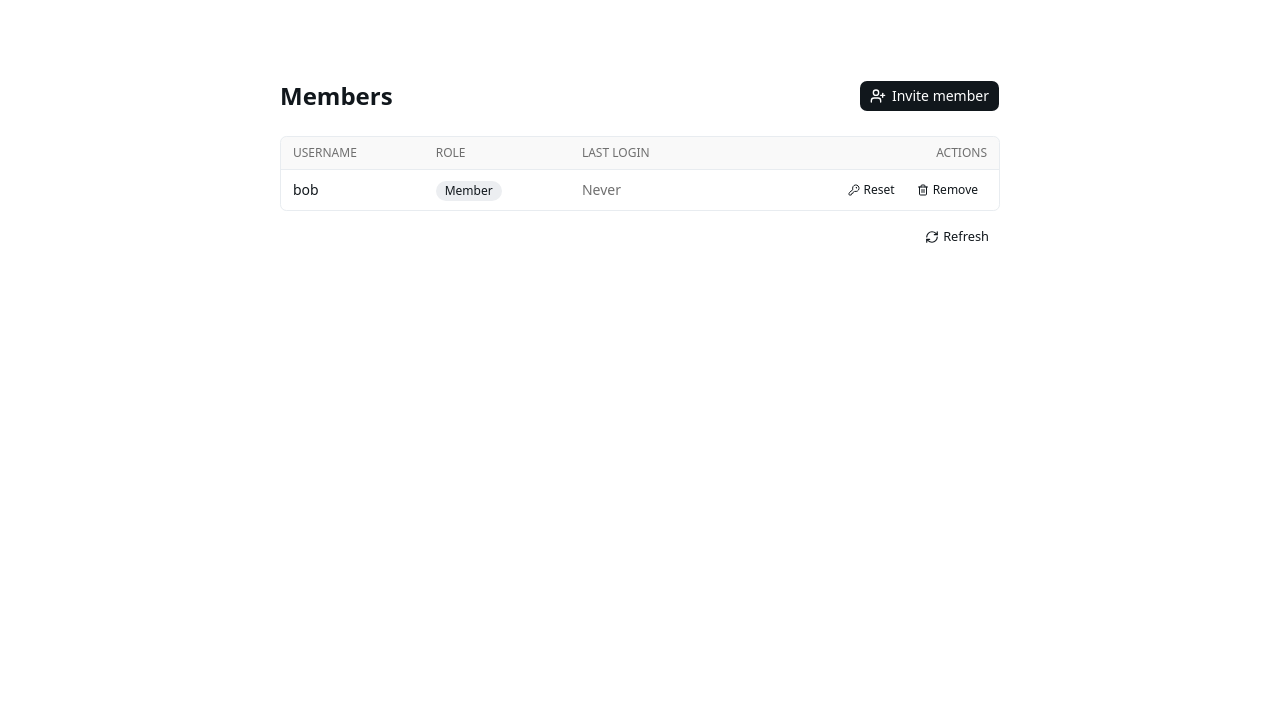
MembersPage actions › deletes a user through the confirmation dialog and refreshes the list
Step 1. Click the button "Remove" → [947, 190], box [908,178,987,202]
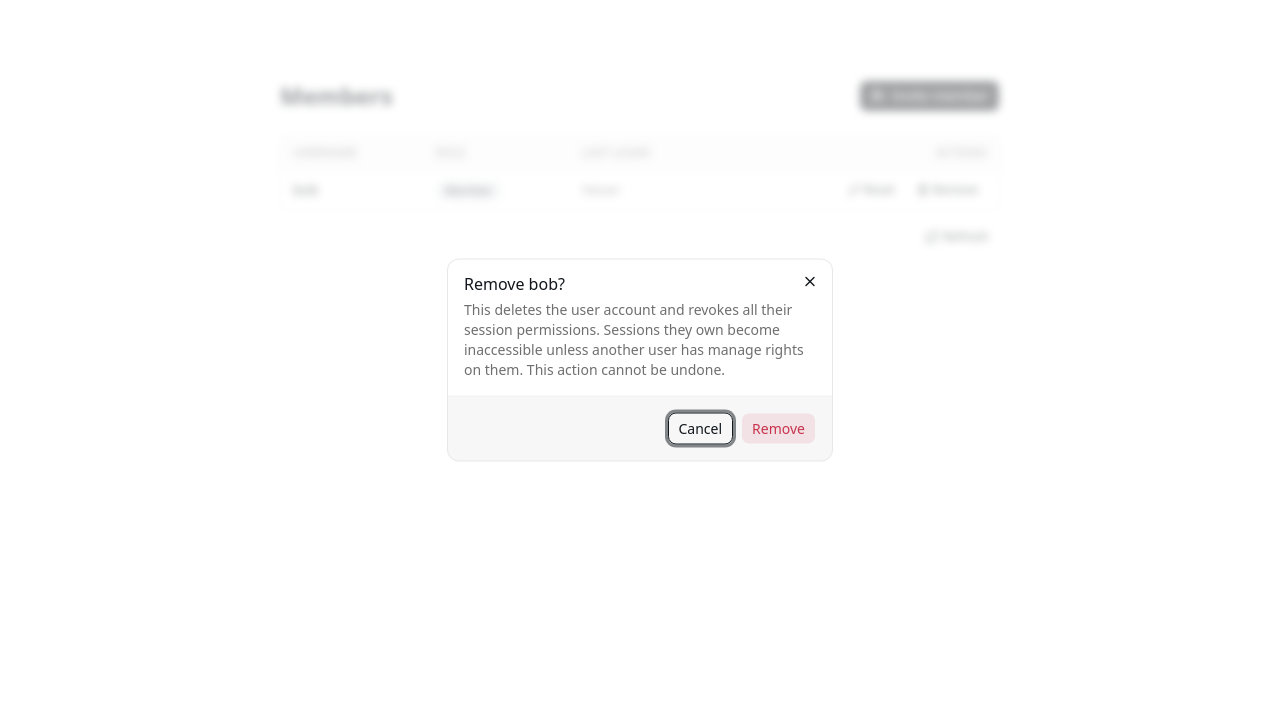
expect the heading "Remove bob?" is shown: met, box [464,272,565,294]
Step 2. Click the button "Remove" → [779, 428], box [741,412,816,444]
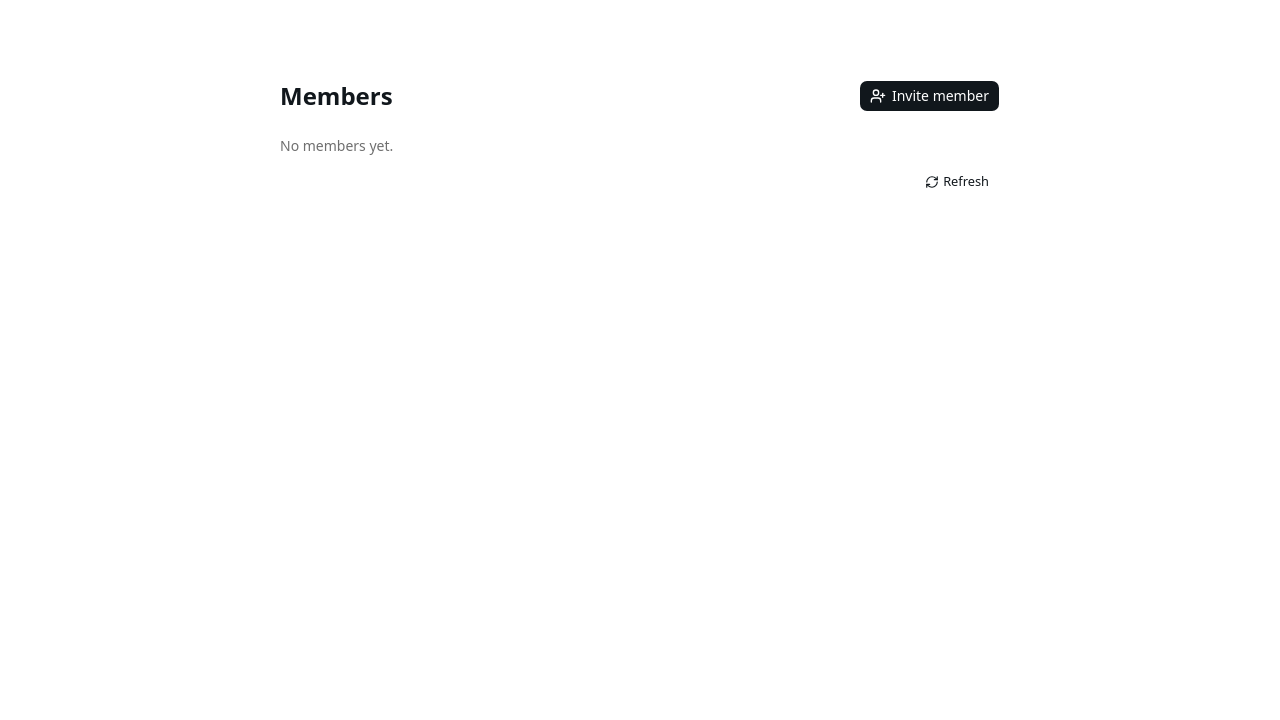
expect the text "No members yet." is shown: met, box [280,136,393,155]
